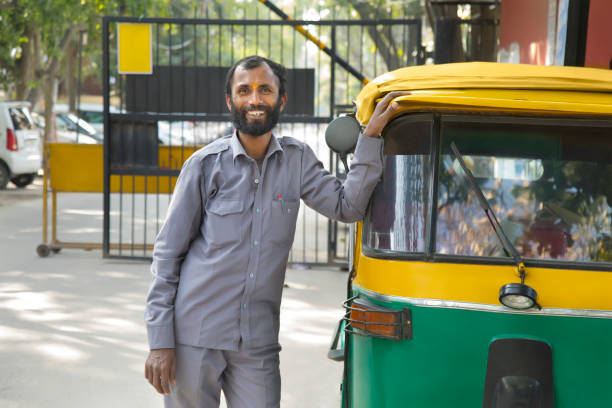threewheel: (325, 62, 612, 408)
